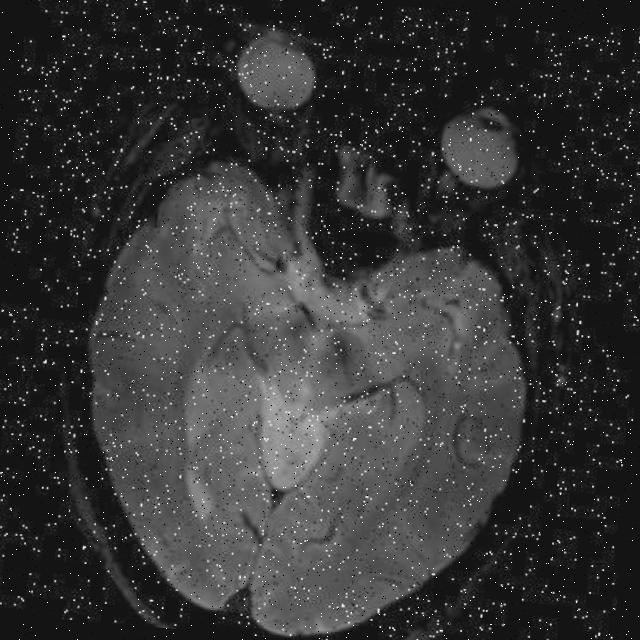LMCI: (162, 312, 245, 448), (365, 392, 429, 512)
